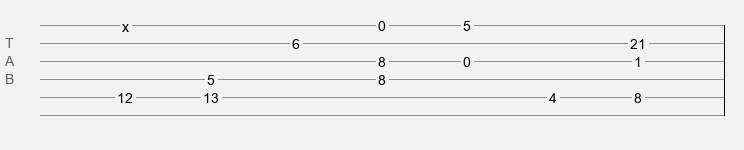0: (378, 18, 386, 28), (463, 54, 471, 64)
1: (634, 54, 642, 64)
12: (117, 90, 133, 100)
13: (203, 90, 219, 100)
21: (630, 36, 646, 46)
4: (549, 90, 557, 100)
5: (207, 72, 215, 82), (463, 18, 471, 28)
6: (292, 36, 300, 46)
8: (378, 54, 386, 64), (378, 72, 386, 82), (634, 90, 642, 100)
x: (122, 19, 129, 27)
